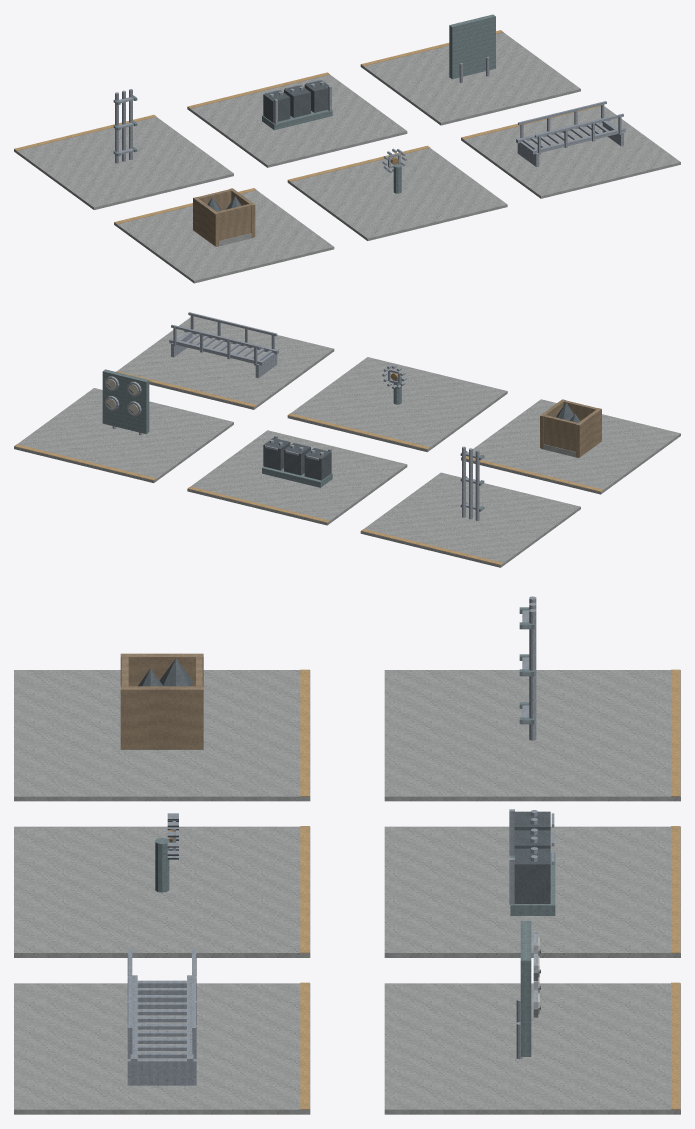
File: level_blockout_kit_wld_09_p03.glb
The picture shows the model from 3 angles, top to bottom: view 1: azimuth 30°, elevation 25°; view 2: azimuth 150°, elevation 25°; view 3: azimuth 270°, elevation 25°; orthographic projection. The views are drawn at different scales.
Parts seen in each view (by area): view 1: level_blockout_kit_wld_09_p03; view 2: level_blockout_kit_wld_09_p03; view 3: level_blockout_kit_wld_09_p03.
Boxes of the visible parts, x1=… form: level_blockout_kit_wld_09_p03: x1=14, y1=14, x2=680, y2=283; level_blockout_kit_wld_09_p03: x1=14, y1=312, x2=680, y2=567; level_blockout_kit_wld_09_p03: x1=14, y1=596, x2=680, y2=1114.
Size of the model in its own units: 19.65 by 2.79 by 12.6.
8 materials, 8 textured.
